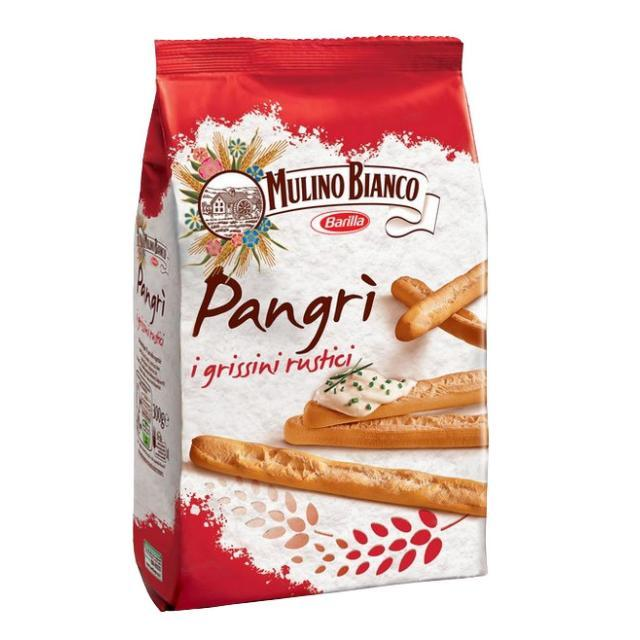Grissini: (190, 432, 487, 530)
